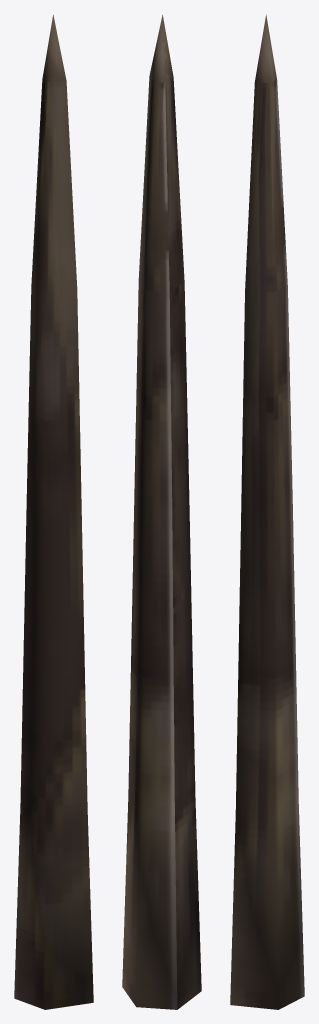
File: Wooden Spike.fbx
3 views of the same model, side by side, from view 1: azimuth 30°, elevation 25°; view 2: azimuth 210°, elevation 25°; view 3: azimuth 270°, elevation 25° (orthographic).
Visible parts, largest first — view 1: Cylinder; view 2: Cylinder; view 3: Cylinder.
Boxes of the visible parts, box(x1,y1,x2,y2) form: Cylinder: box(14, 15, 93, 1009); Cylinder: box(122, 15, 201, 1009); Cylinder: box(230, 14, 304, 1009).
Bounding box in the file's own units: 91.91 × 1317 × 90.8.
